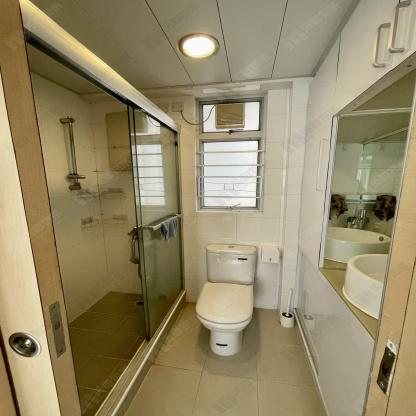Exhaust Fan: (215, 102, 245, 129)
Toilet: (188, 239, 259, 361)
Water Cubicle: (20, 1, 188, 416)
Water Heater: (104, 111, 131, 171)
